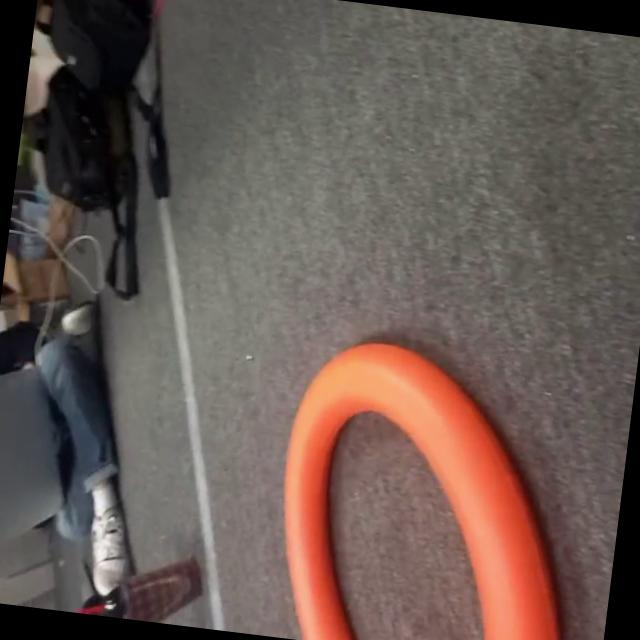note: (256, 318, 608, 640)
